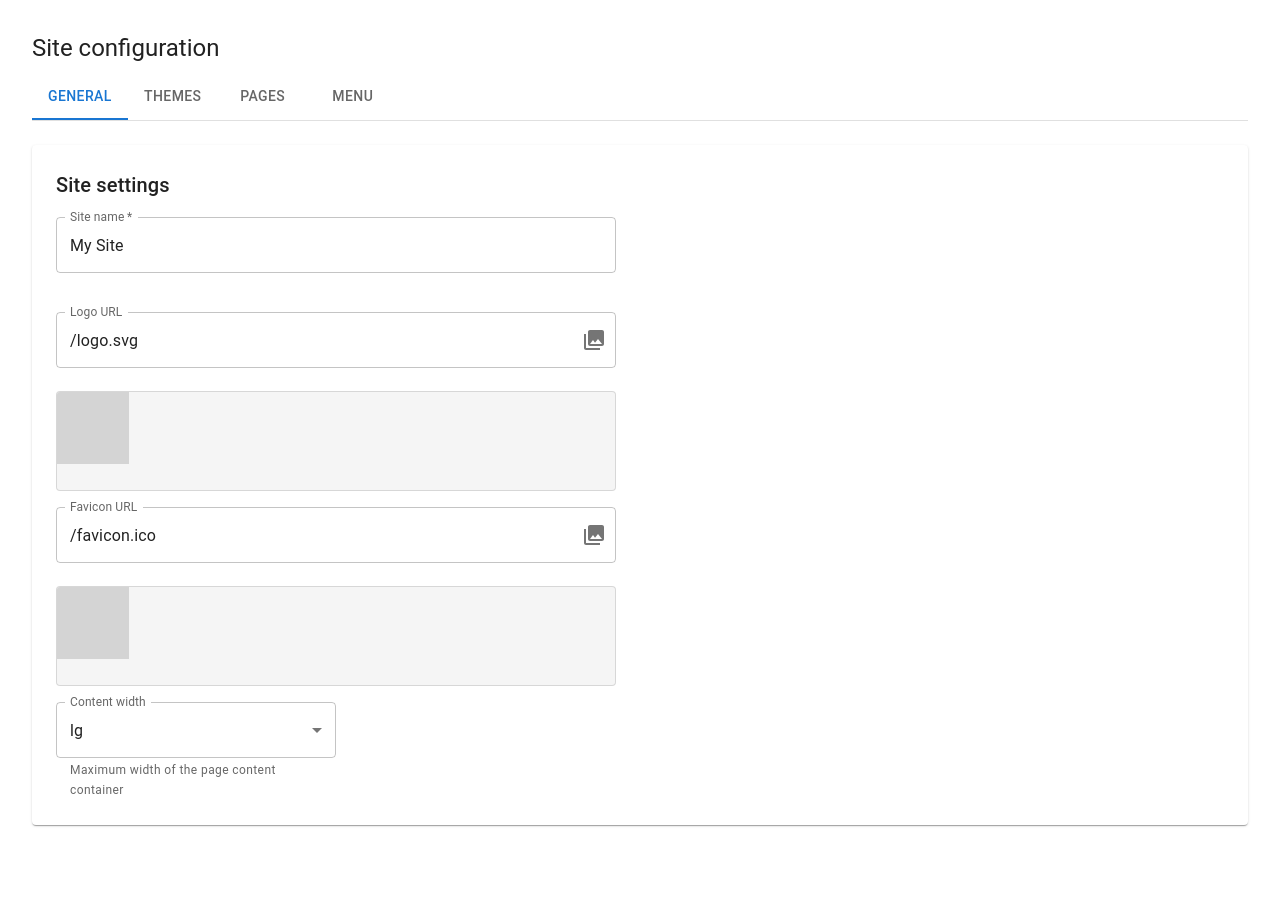
SiteConfigPage › shows the Themes editor when the Themes tab is selected
Expected: the field labelled "Site name *" is shown, [56, 217, 616, 273]
Click the tab "Themes": (173, 96) [144, 88, 202, 104]
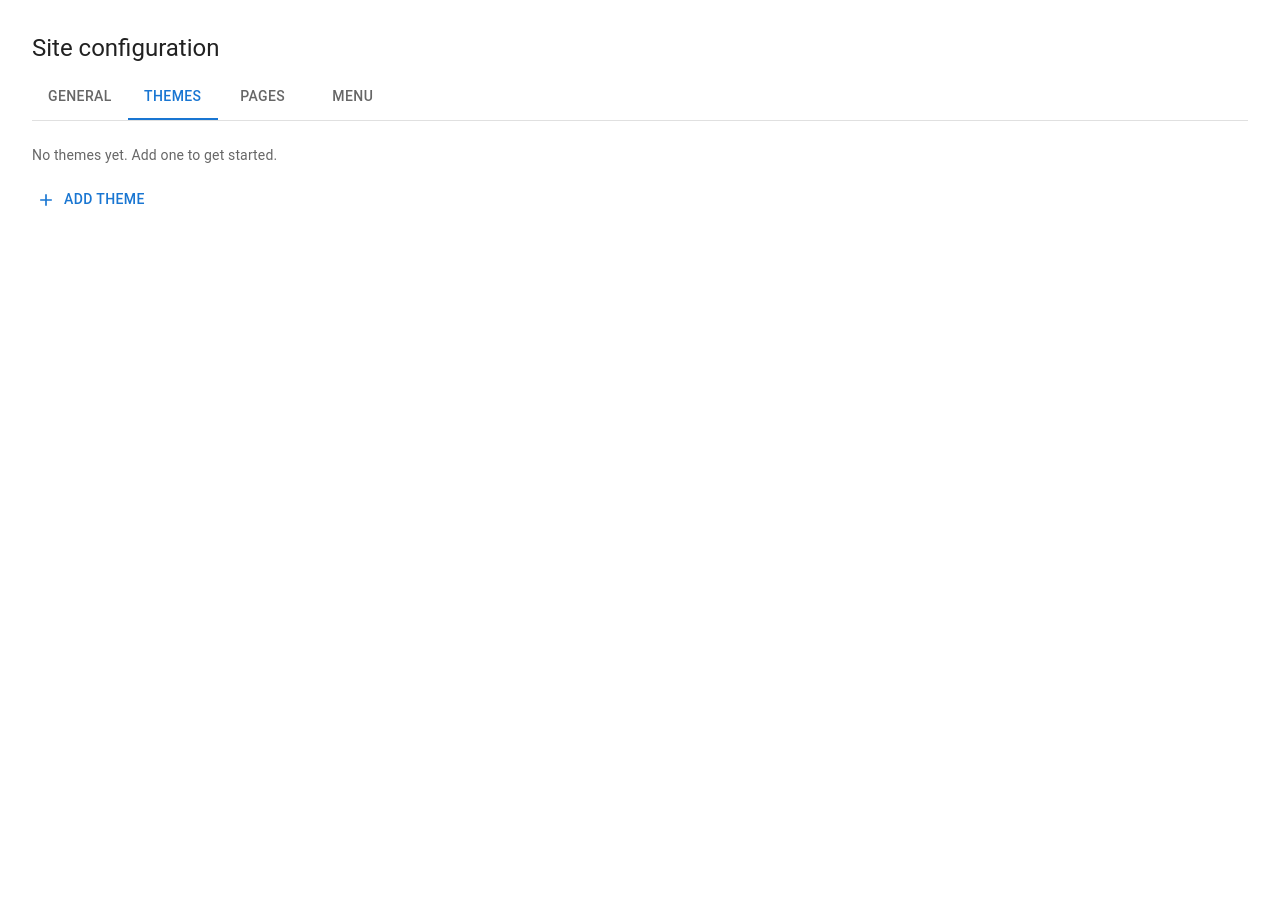
Expected: the button "Add theme" is shown, [32, 181, 153, 218]
